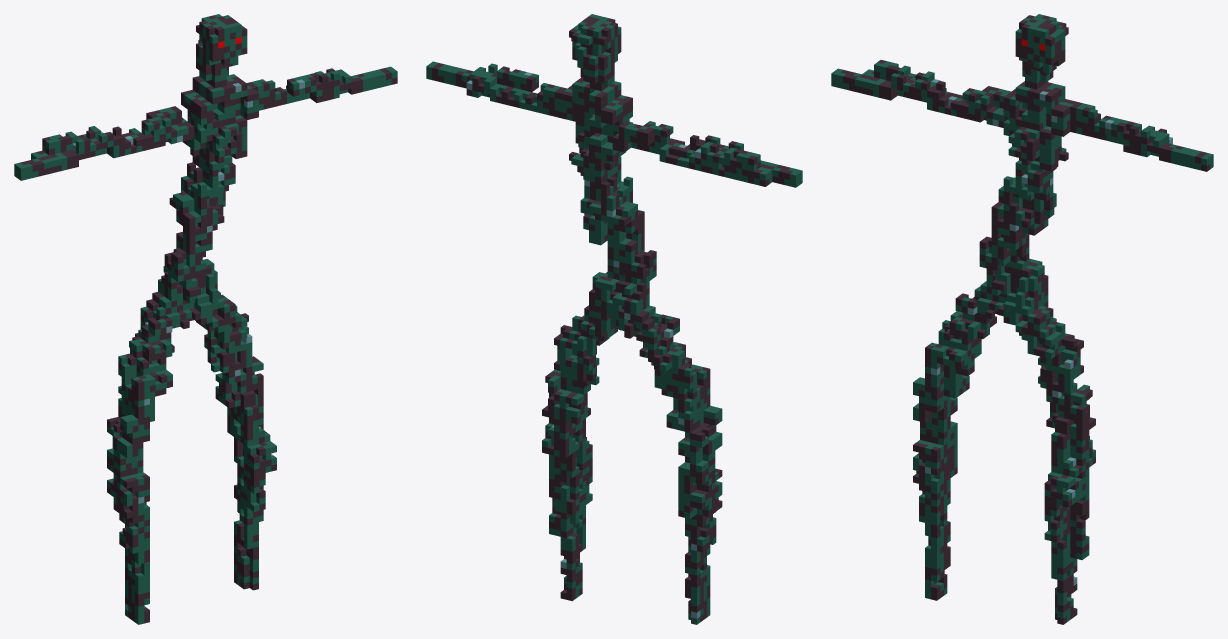
File: tree_spirit_boss.obj
3 views of the same model, side by side, from view 1: azimuth 30°, elevation 25°; view 2: azimuth 150°, elevation 25°; view 3: azimuth 330°, elevation 25° (orthographic). The views are drawn at different scales.
Size of the model in its own units: 6.4 by 9.4 by 0.8.
1 material, 1 textured.
